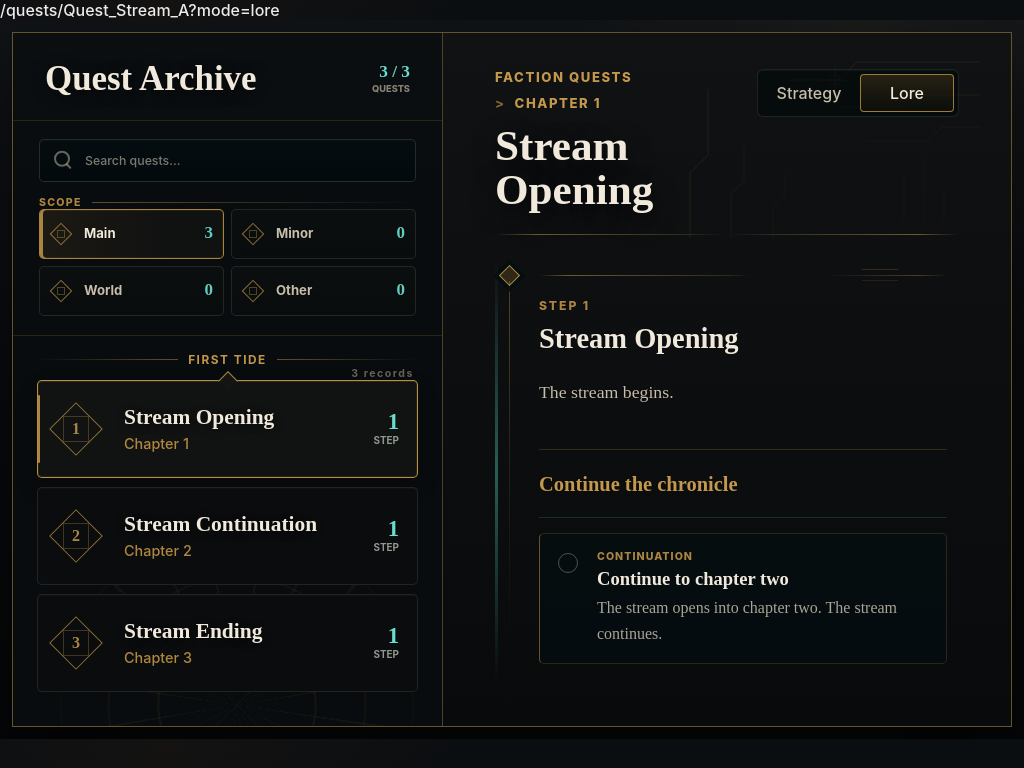
Test: QuestExplorerPage Lore chronicle behavior › treats a left rail click as canonical navigation rather than passive Lore scroll
Expected: the heading "Stream Opening" is shown, [495,122,653,214]
Step 1. Click the button "2 Stream Continuation Chapter 2 1 step" → (228, 536), box [37,487,418,585]
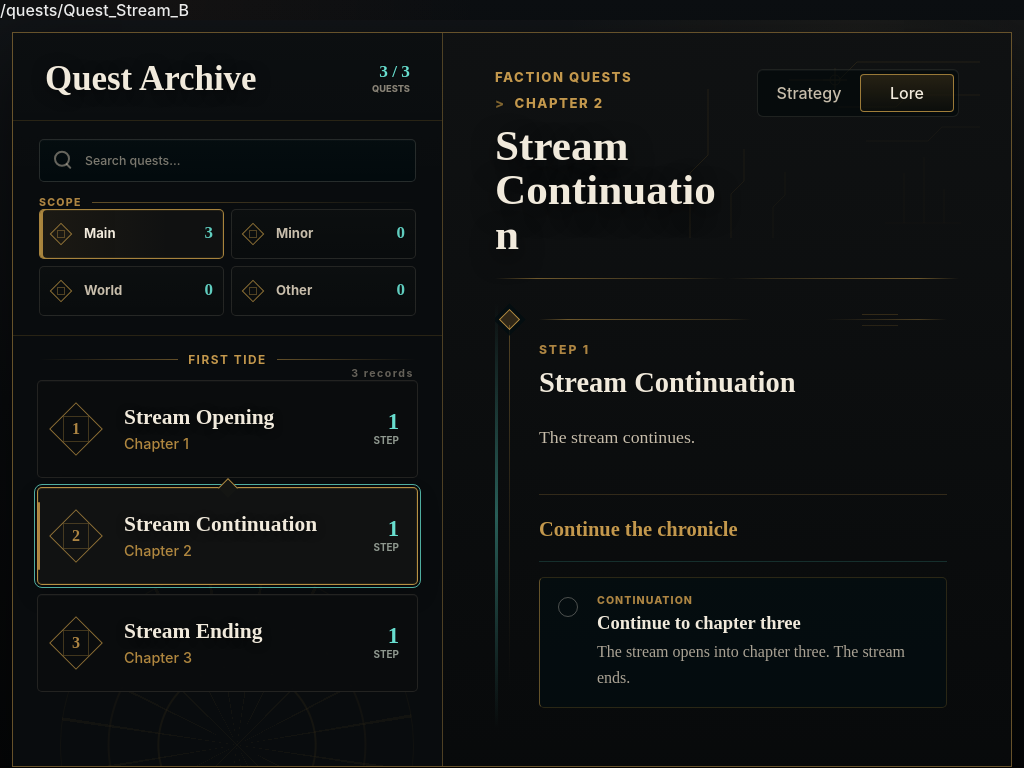
Expected: the text with test id "route-location" reads "/quests/Quest_Stream_B", [0,0,189,20]
Expected: the heading "Stream Continuation" is shown, [495,124,727,258]
